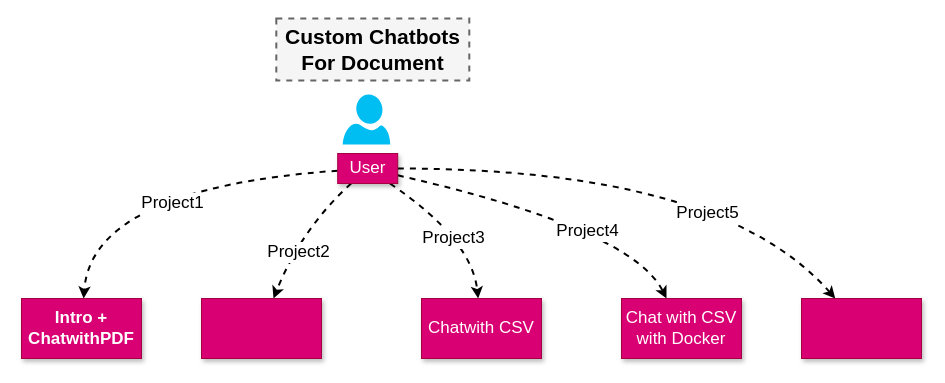
Some shapes in this 945 by 383 pixel diagram are drawn without their labels. Each missing label, with the centre of its shape:
Chat with doc + Chat with PDF & doc: [262,330]
Deployment: [862,330]
